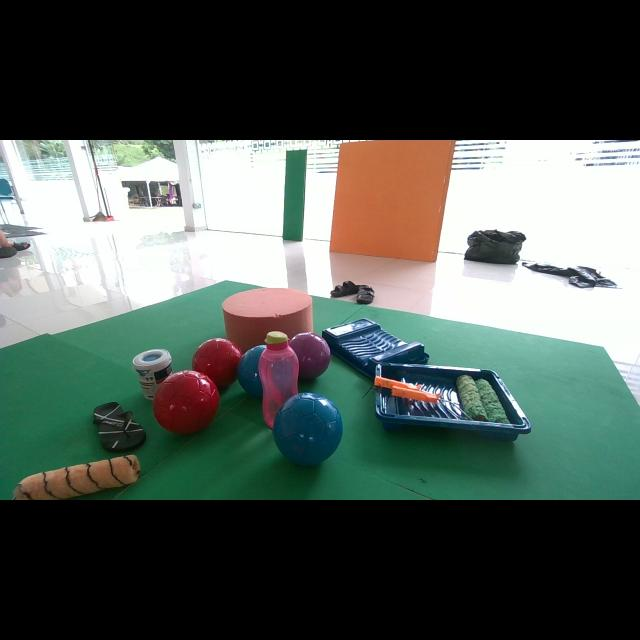B: (272, 392, 342, 466), (238, 345, 266, 398)
P: (289, 331, 331, 379)
R: (152, 370, 219, 434), (191, 338, 242, 389)
